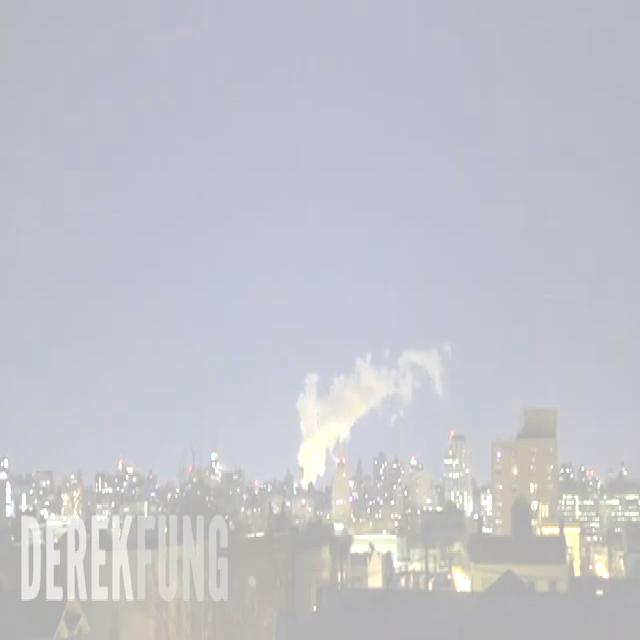smoke: (296, 348, 442, 478)
